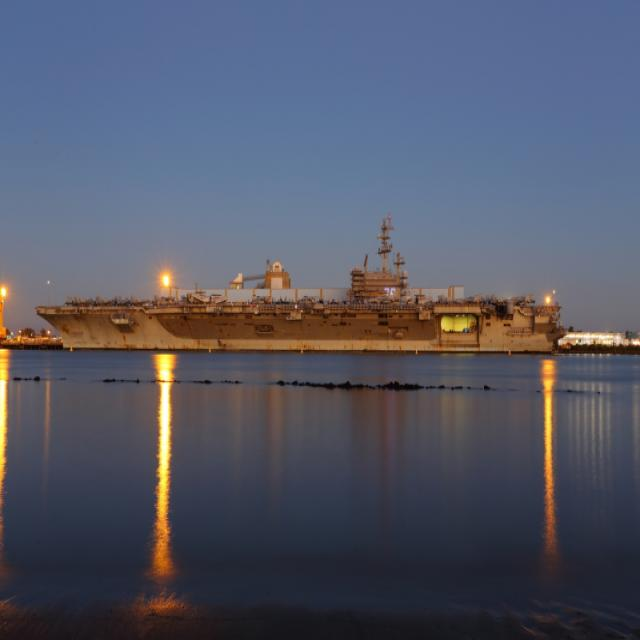Portanaves: (35, 207, 570, 357)
